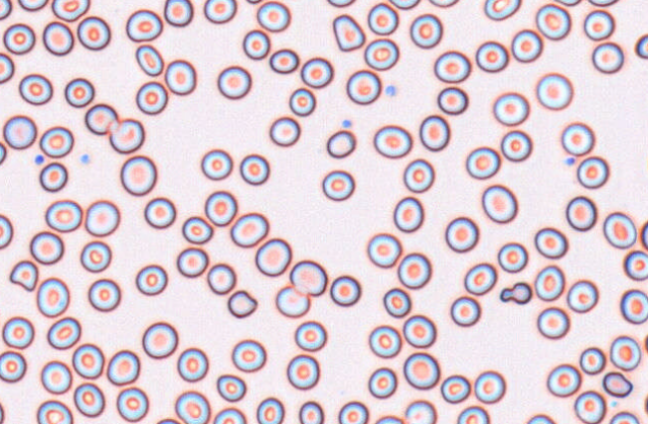PLT: (384, 86, 397, 97), (563, 156, 576, 167), (33, 154, 45, 165), (79, 154, 91, 165), (342, 118, 353, 129)
RBC: (119, 155, 157, 196), (535, 72, 573, 110), (254, 237, 291, 276), (289, 259, 327, 296), (481, 184, 517, 223), (402, 352, 439, 389), (141, 321, 178, 358), (84, 199, 120, 236), (535, 3, 571, 40), (230, 212, 268, 247), (373, 124, 412, 158), (36, 277, 69, 317), (108, 117, 144, 153), (492, 91, 529, 126), (602, 211, 636, 249), (366, 232, 401, 268), (397, 252, 431, 289), (125, 8, 162, 42), (433, 50, 471, 83), (44, 199, 82, 232), (2, 114, 37, 149), (346, 69, 381, 104), (106, 349, 140, 385), (286, 354, 320, 390), (174, 390, 210, 424), (444, 216, 478, 252), (29, 230, 64, 264), (546, 363, 581, 397), (76, 15, 110, 50), (116, 386, 149, 422), (71, 343, 104, 379), (204, 190, 237, 226), (217, 65, 251, 99), (402, 314, 436, 348), (560, 121, 594, 155), (465, 146, 500, 179), (46, 316, 81, 349), (409, 13, 442, 48), (231, 339, 266, 372), (565, 195, 597, 231), (164, 59, 196, 95), (418, 114, 449, 151), (39, 125, 73, 158), (463, 262, 497, 295), (87, 278, 121, 311), (576, 155, 609, 189), (573, 390, 606, 424), (368, 324, 401, 358), (275, 285, 310, 317), (73, 382, 105, 417), (402, 158, 434, 193), (176, 347, 208, 382), (364, 38, 399, 70), (609, 335, 641, 370), (392, 196, 423, 232), (534, 264, 564, 301), (536, 306, 569, 339), (84, 103, 118, 135), (2, 315, 34, 349), (42, 21, 74, 55), (40, 360, 72, 394), (256, 0, 290, 32), (18, 73, 52, 105), (510, 28, 542, 62), (566, 279, 598, 313), (135, 81, 167, 115), (321, 169, 354, 201), (2, 22, 35, 54), (534, 227, 567, 259), (475, 40, 508, 72), (473, 370, 505, 403), (143, 196, 176, 228), (300, 56, 333, 88), (591, 41, 624, 73), (619, 288, 648, 324), (329, 274, 361, 306), (500, 129, 532, 161), (200, 148, 232, 180), (367, 2, 398, 35), (176, 246, 208, 277), (80, 240, 111, 272), (294, 320, 326, 351), (135, 264, 167, 295), (367, 366, 397, 399), (583, 9, 614, 40), (206, 262, 236, 294), (497, 241, 527, 273), (239, 153, 269, 185), (450, 295, 480, 326), (269, 116, 300, 146), (181, 215, 213, 244), (36, 399, 72, 424), (64, 77, 94, 107), (437, 86, 468, 115), (135, 44, 163, 76), (326, 129, 356, 158), (216, 373, 246, 402), (382, 287, 411, 317), (440, 374, 470, 403), (39, 161, 67, 192), (242, 29, 270, 59), (0, 350, 26, 382), (51, 0, 90, 21), (404, 399, 436, 424), (256, 396, 284, 424), (579, 346, 606, 375), (288, 87, 315, 116), (163, 0, 193, 26), (483, 0, 521, 20), (203, 0, 236, 23), (623, 250, 648, 280), (337, 400, 368, 424), (269, 48, 298, 73), (456, 405, 489, 424), (298, 400, 324, 424), (212, 406, 246, 423), (0, 213, 13, 249), (0, 52, 14, 84), (608, 411, 640, 424), (634, 32, 648, 59), (524, 413, 556, 424), (17, 0, 48, 11), (388, 0, 420, 9), (640, 218, 648, 251), (373, 415, 404, 423), (0, 0, 12, 20), (587, 0, 620, 7), (427, 0, 459, 7), (326, 0, 356, 7), (154, 417, 181, 424), (552, 0, 582, 6), (0, 140, 6, 165), (0, 400, 5, 423), (644, 390, 648, 416), (644, 331, 648, 357), (645, 146, 648, 179), (244, 0, 263, 4)
Schistocyte: (332, 14, 366, 54), (9, 259, 38, 292), (499, 281, 534, 307), (227, 291, 258, 319), (603, 371, 633, 398)
